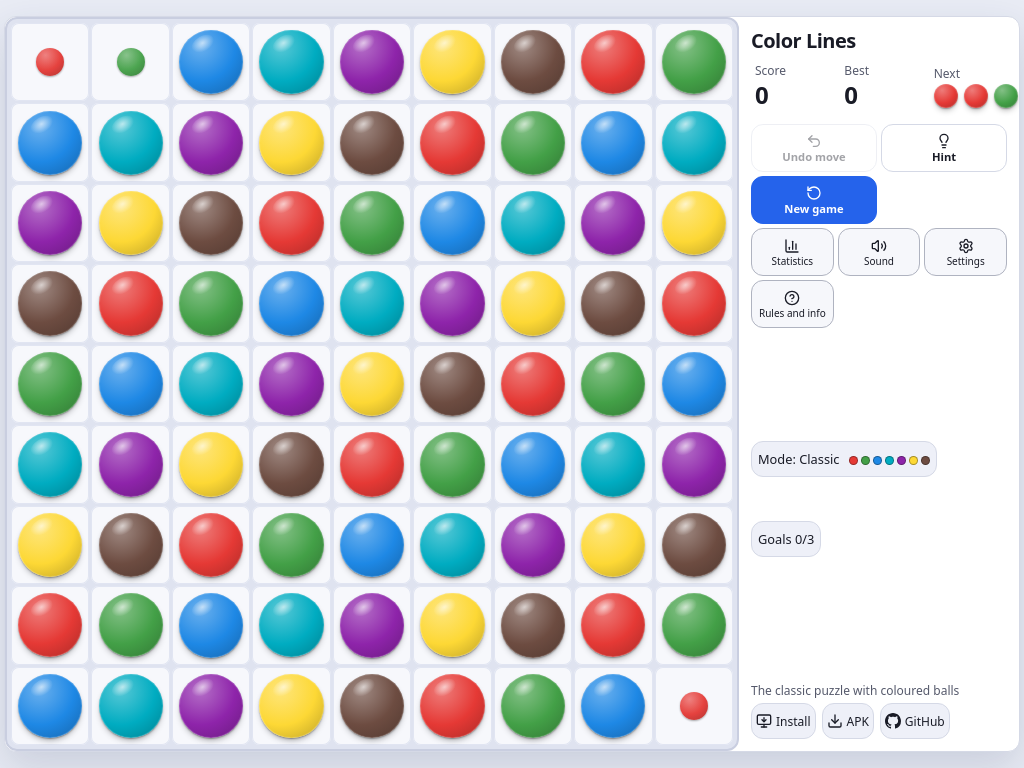
it: end of a game › no dialog after game over: HUD offers New game and Result with badge
Step 1. Click the button named "Row 1, column 3," → (211, 62), box [172,23,250,102]
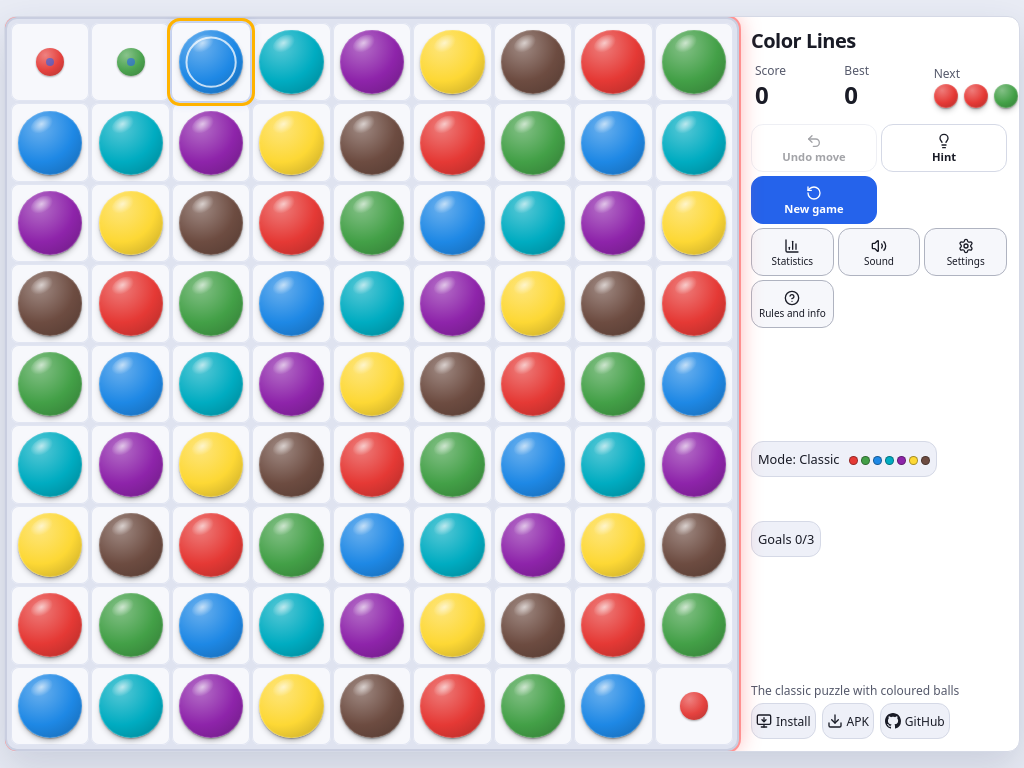
Step 2. Click the button named "Row 1, column 2, empty" → (131, 62), box [91,23,170,101]
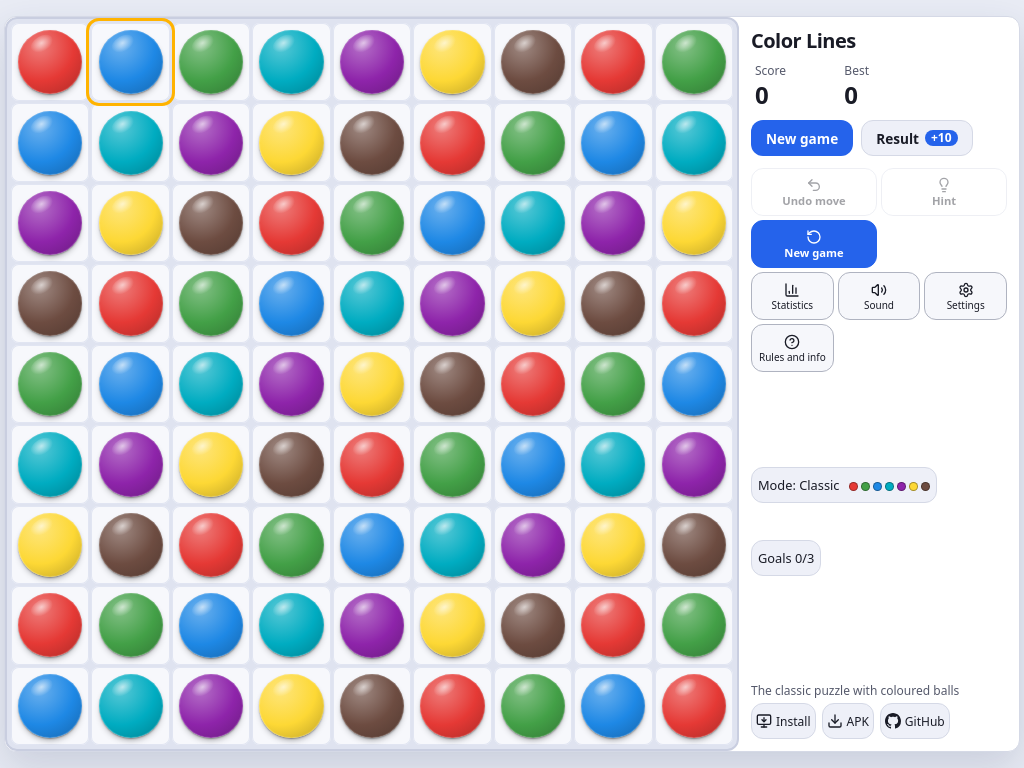
Now the button "Result +10" is shown, box [861,120,972,156]
